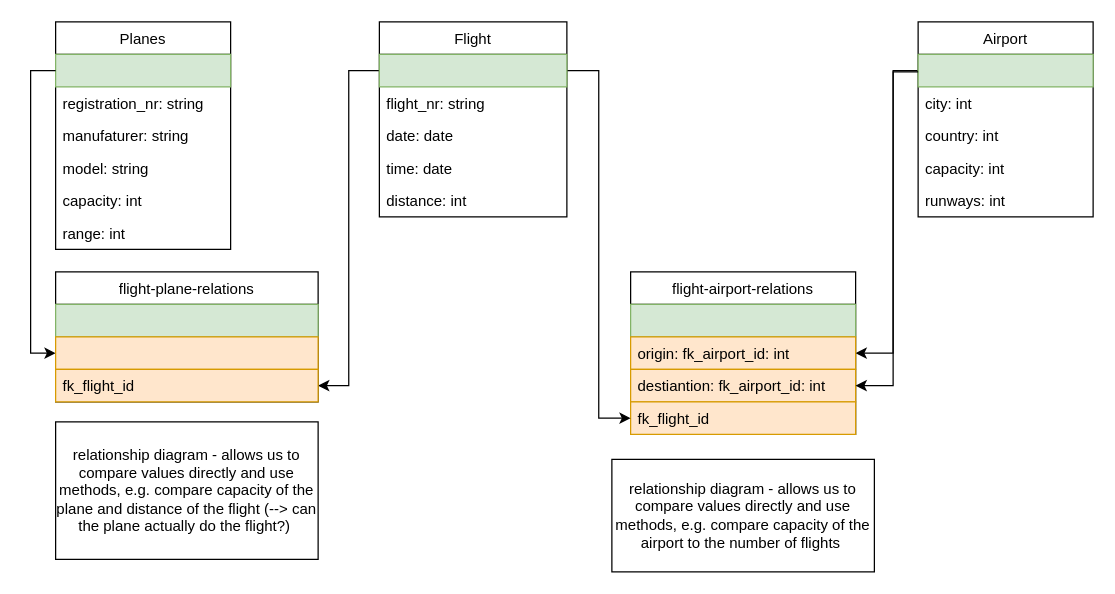
The diagram is 1115 pixels wide and 594 high, and some of its shapes have lost their labels. The centre of each missing label's shape, as x and y in pixels:
"airport_id: int" belongs at (1005,70).
"connection-id" belongs at (186,320).
"fk_plane-id" belongs at (186,352).
"flight-airport_id" belongs at (742,320).
"flight_id: int" belongs at (472,70).
"plane_id: int" belongs at (142,70).
